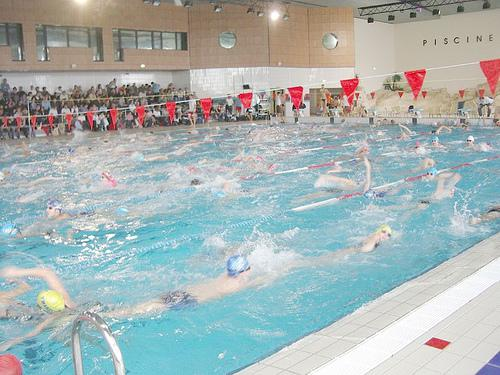swimmer: (136, 251, 252, 314), (346, 223, 396, 258), (422, 169, 460, 210), (44, 200, 67, 222), (466, 134, 488, 151), (426, 134, 444, 152)
